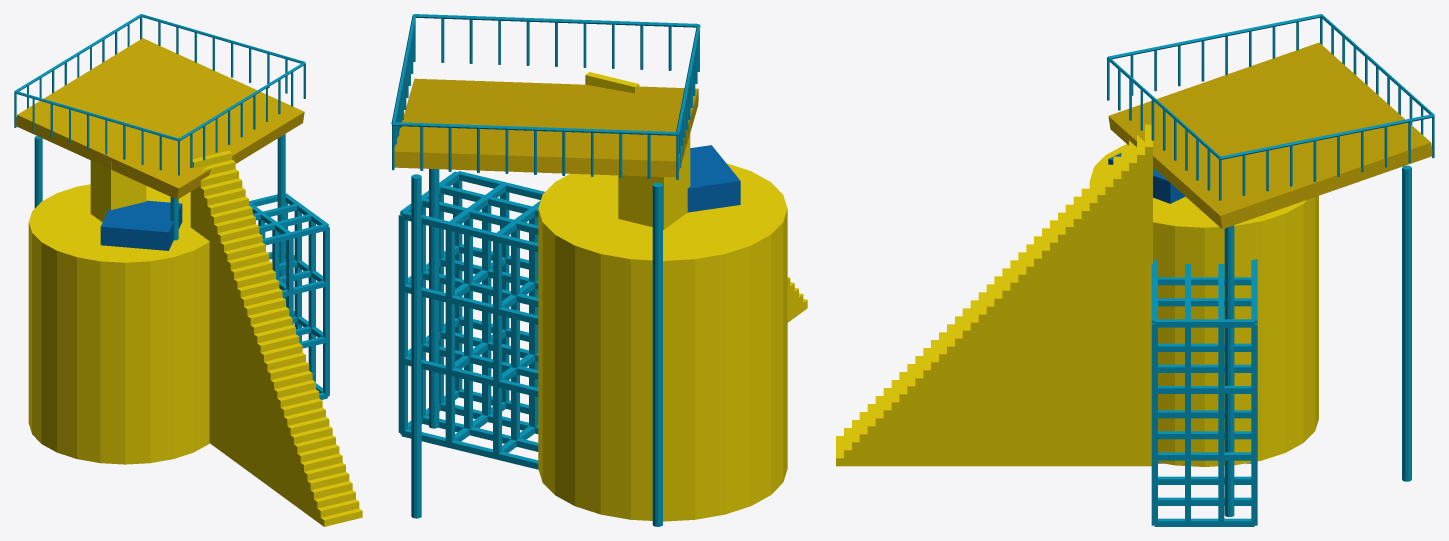
The model's file is folie_tag_028.glb.
3 renders of one model, left to right at view 1: azimuth 30°, elevation 25°; view 2: azimuth 150°, elevation 25°; view 3: azimuth 270°, elevation 25°, orthographic. The views are drawn at different scales.
Parts seen in each view (by area): view 1: folie_tag_028_00_drum, folie_tag_028_stairs, folie_tag_028_01_plate, folie_tag_028_line, folie_tag_028_02_cage, folie_tag_028_03_block, folie_tag_028_core; view 2: folie_tag_028_00_drum, folie_tag_028_02_cage, folie_tag_028_01_plate, folie_tag_028_line, folie_tag_028_core, folie_tag_028_03_block, folie_tag_028_stairs; view 3: folie_tag_028_stairs, folie_tag_028_01_plate, folie_tag_028_00_drum, folie_tag_028_02_cage, folie_tag_028_line, folie_tag_028_03_block.
Part boxes in pixels (x1,y1,x2,y2): folie_tag_028_00_drum: [28, 184, 209, 464]; folie_tag_028_stairs: [190, 150, 362, 526]; folie_tag_028_01_plate: [16, 38, 304, 199]; folie_tag_028_line: [14, 14, 305, 299]; folie_tag_028_02_cage: [249, 193, 329, 399]; folie_tag_028_03_block: [100, 200, 182, 250]; folie_tag_028_core: [90, 160, 146, 222]; folie_tag_028_00_drum: [538, 163, 787, 521]; folie_tag_028_02_cage: [398, 171, 544, 469]; folie_tag_028_01_plate: [394, 78, 698, 177]; folie_tag_028_line: [391, 14, 700, 526]; folie_tag_028_core: [618, 124, 690, 229]; folie_tag_028_03_block: [687, 145, 740, 212]; folie_tag_028_stairs: [585, 72, 807, 322]; folie_tag_028_stairs: [836, 124, 1152, 466]; folie_tag_028_01_plate: [1108, 42, 1432, 229]; folie_tag_028_00_drum: [1090, 144, 1318, 466]; folie_tag_028_02_cage: [1151, 259, 1257, 526]; folie_tag_028_line: [1106, 14, 1434, 516]; folie_tag_028_03_block: [1108, 153, 1185, 203].
Bounding box in the file's own units: 8.42 × 9.33 × 13.61.
